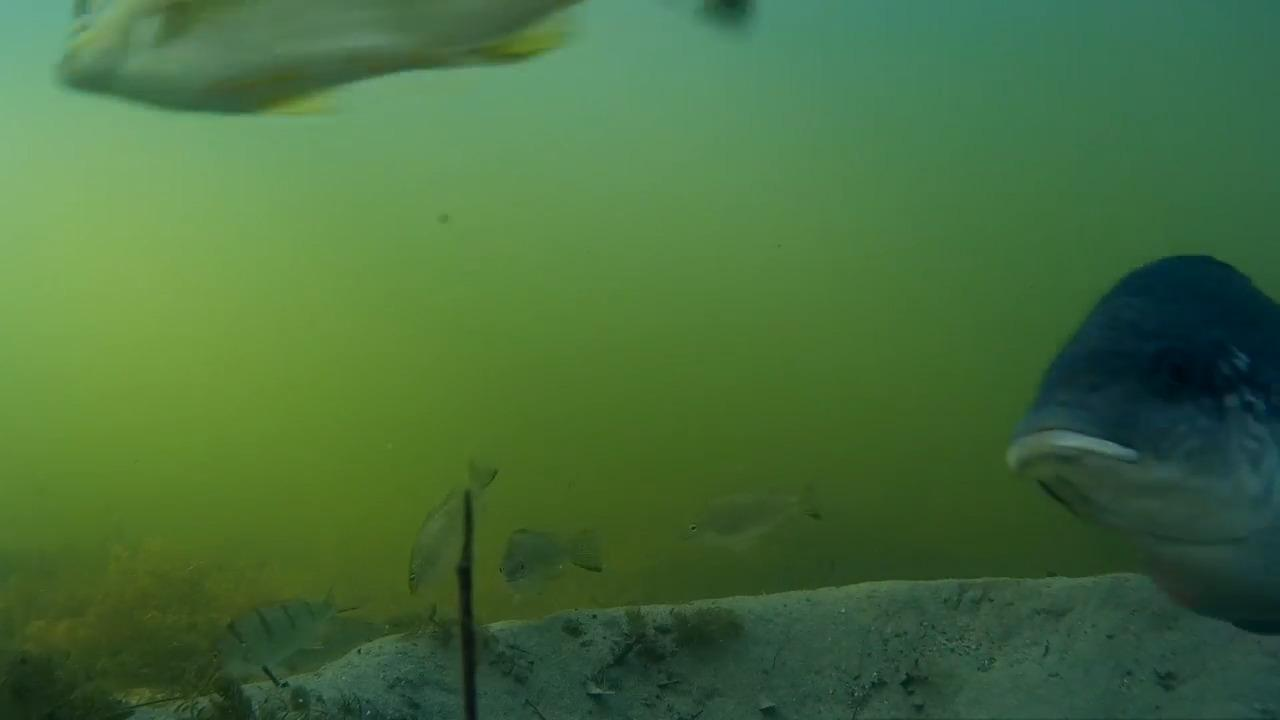Tilapia: (992, 248, 1280, 590), (13, 0, 751, 126), (209, 566, 374, 698), (399, 436, 500, 600), (494, 516, 619, 598), (678, 479, 825, 547)
